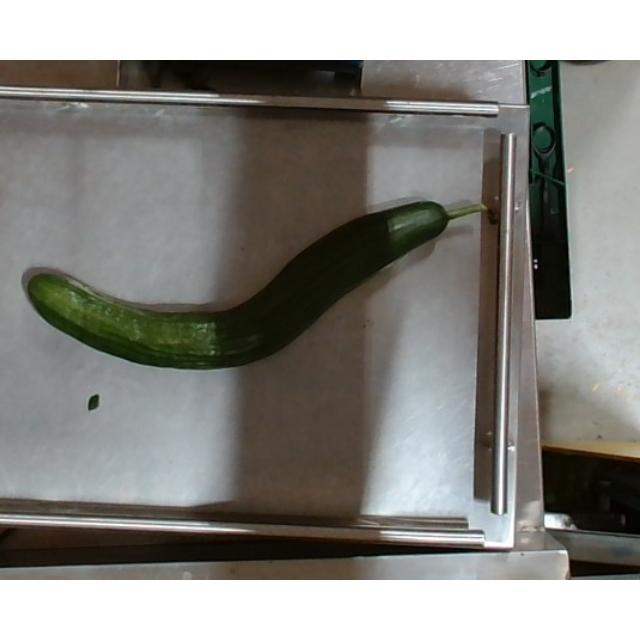cucumber: (25, 202, 488, 372)
